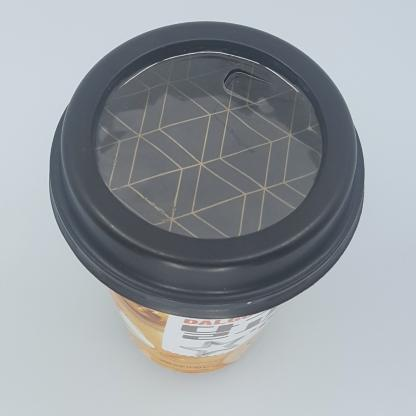---------250ML: (49, 21, 364, 374)
